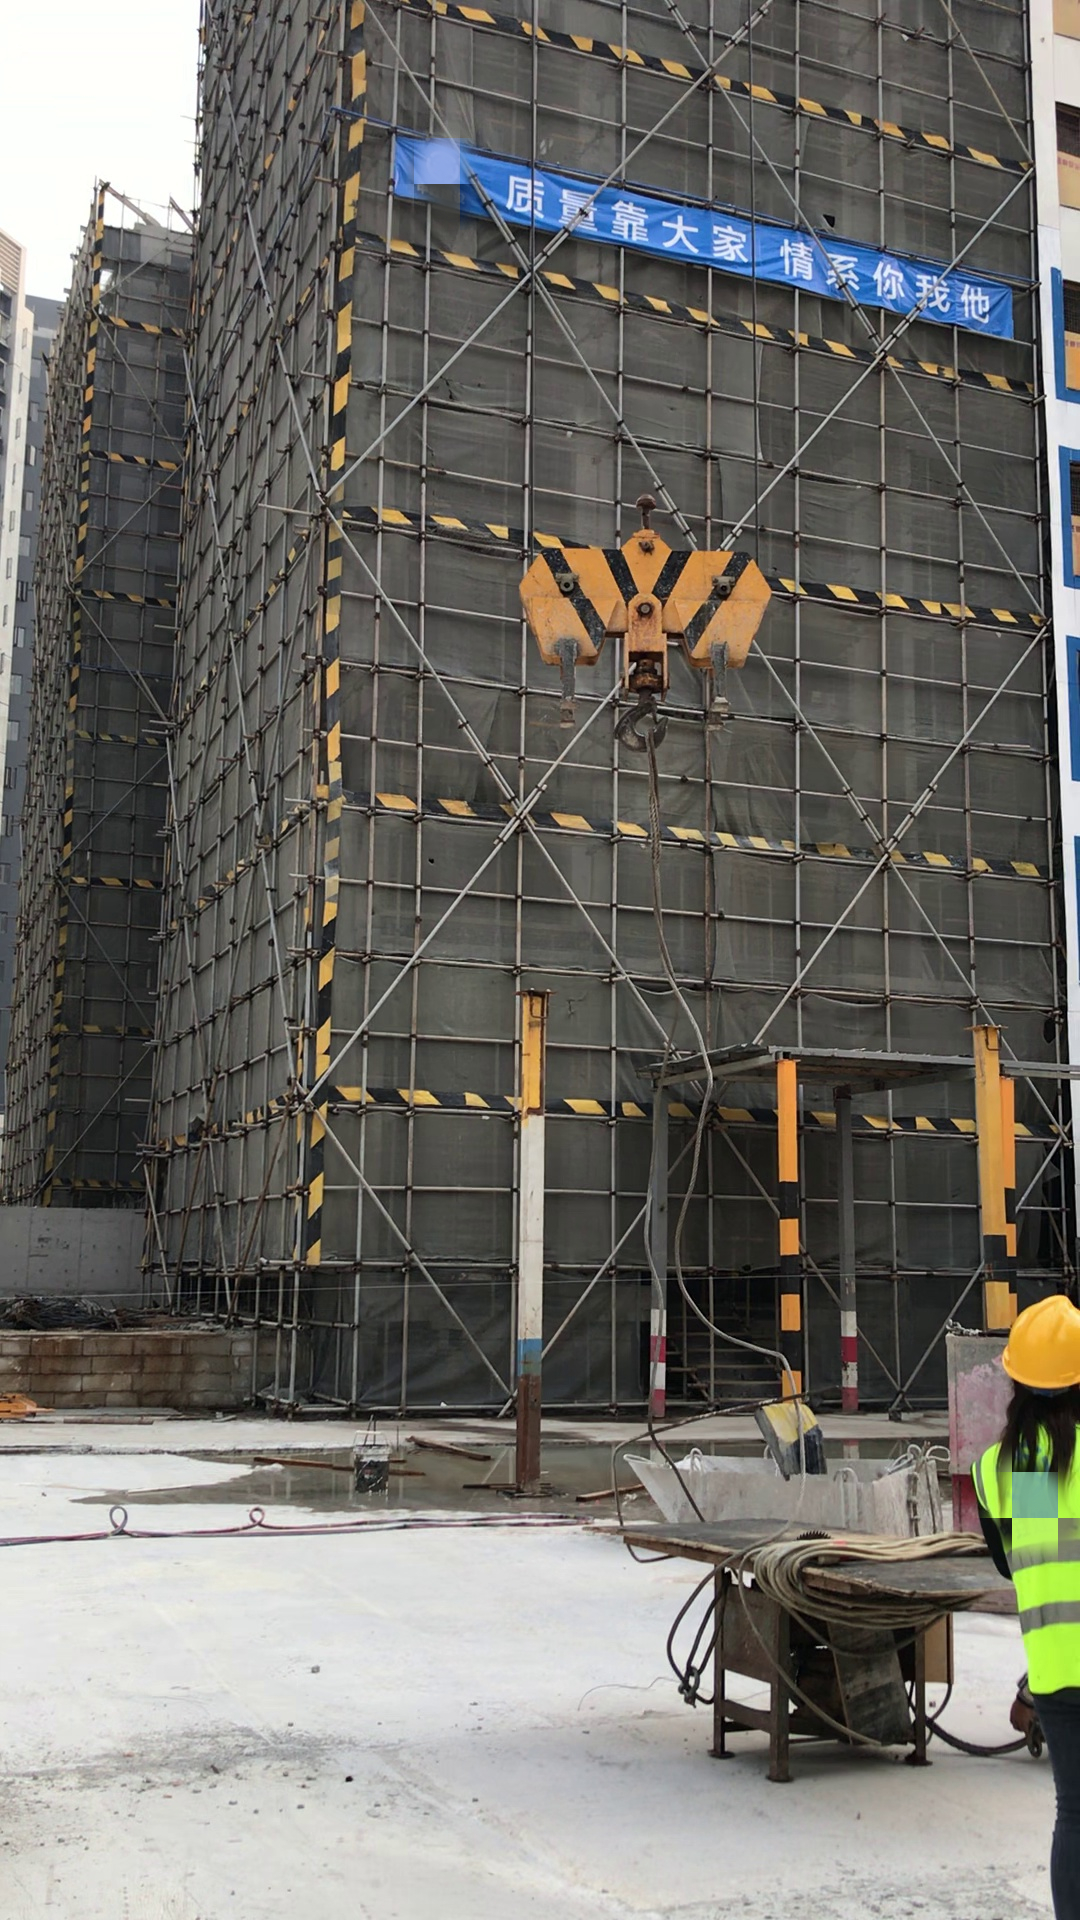cutter: (622, 1517, 1018, 1782)
helmet: (997, 1295, 1080, 1381)
hook: (510, 529, 773, 750)
hopper: (622, 1450, 938, 1531)
person: (947, 1308, 1078, 1920)
slogan: (386, 117, 1013, 336)
vest: (976, 1427, 1080, 1694)
